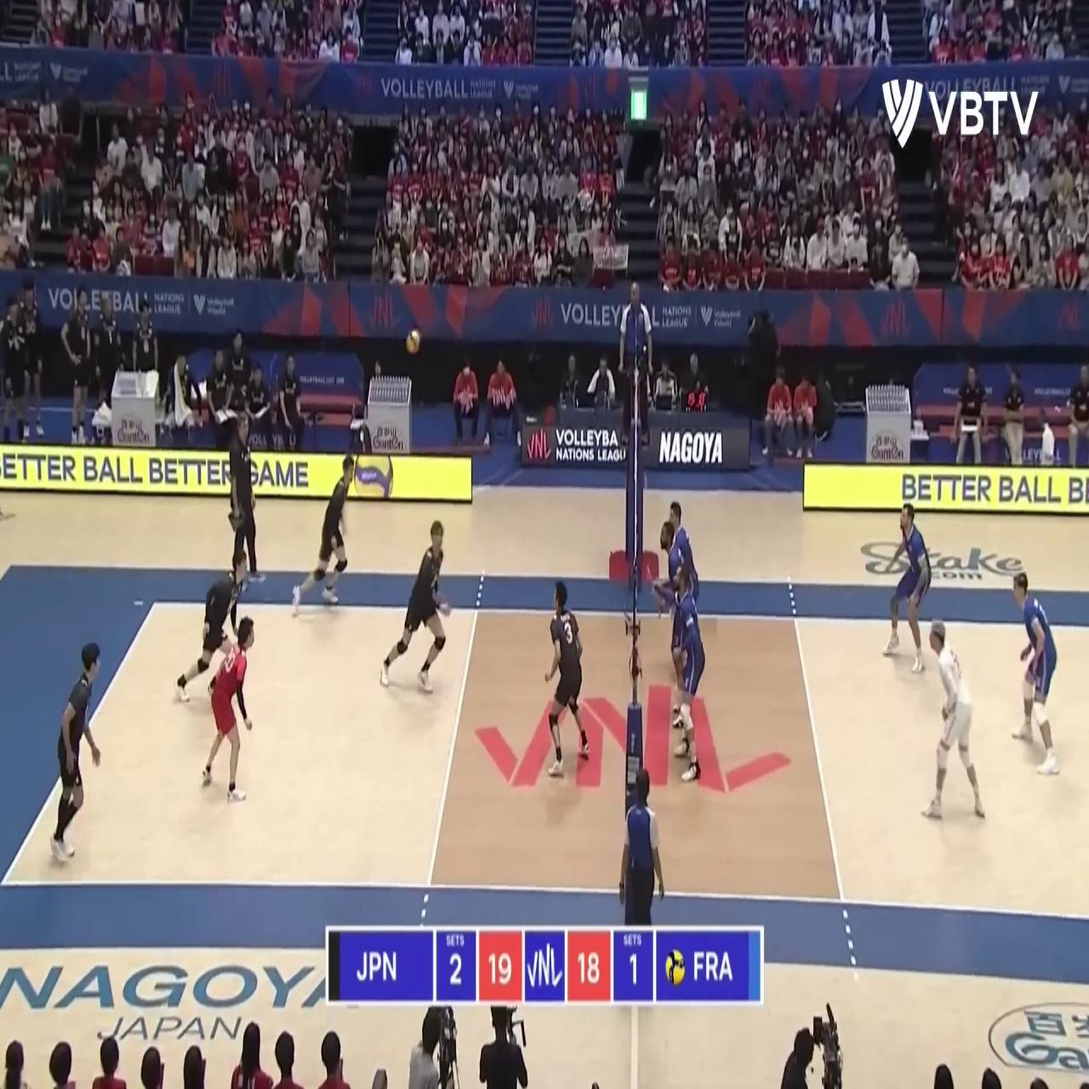ball: (405, 327, 422, 358)
